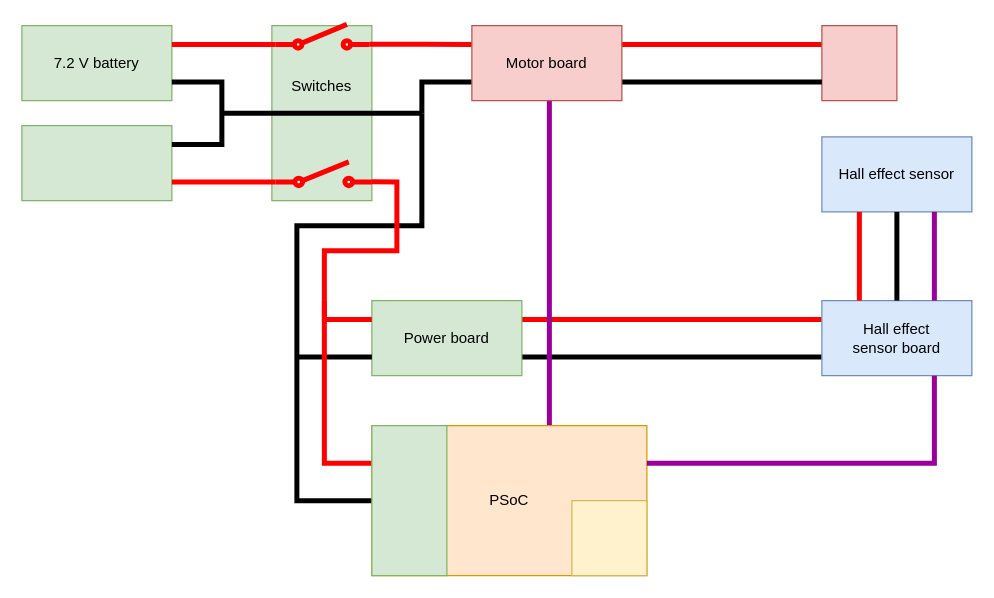
Image size: 994x598. Some labels were removed from this diagram. The centre of each missing label's shape, as x and y in pixels:
9.6 V battery: [96,162]
DB9 serial interface: [609,537]
Internal voltage regulator: [409,500]
Motor: [859,62]
